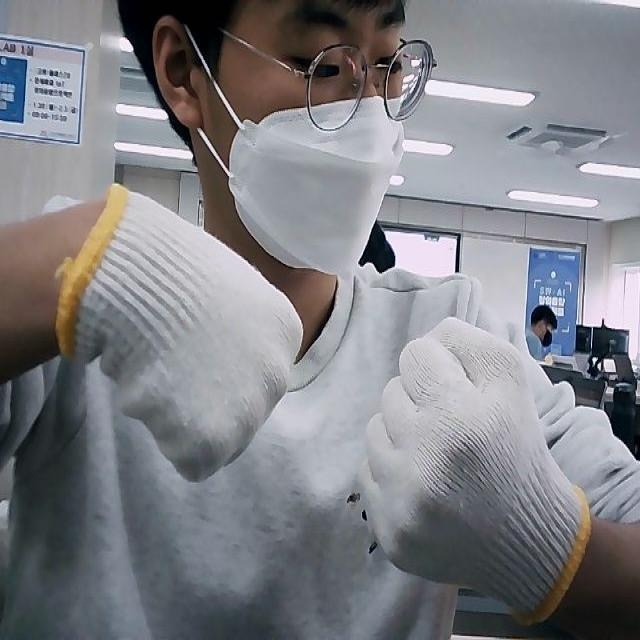Guantes: (54, 180, 306, 479), (358, 312, 594, 624)
